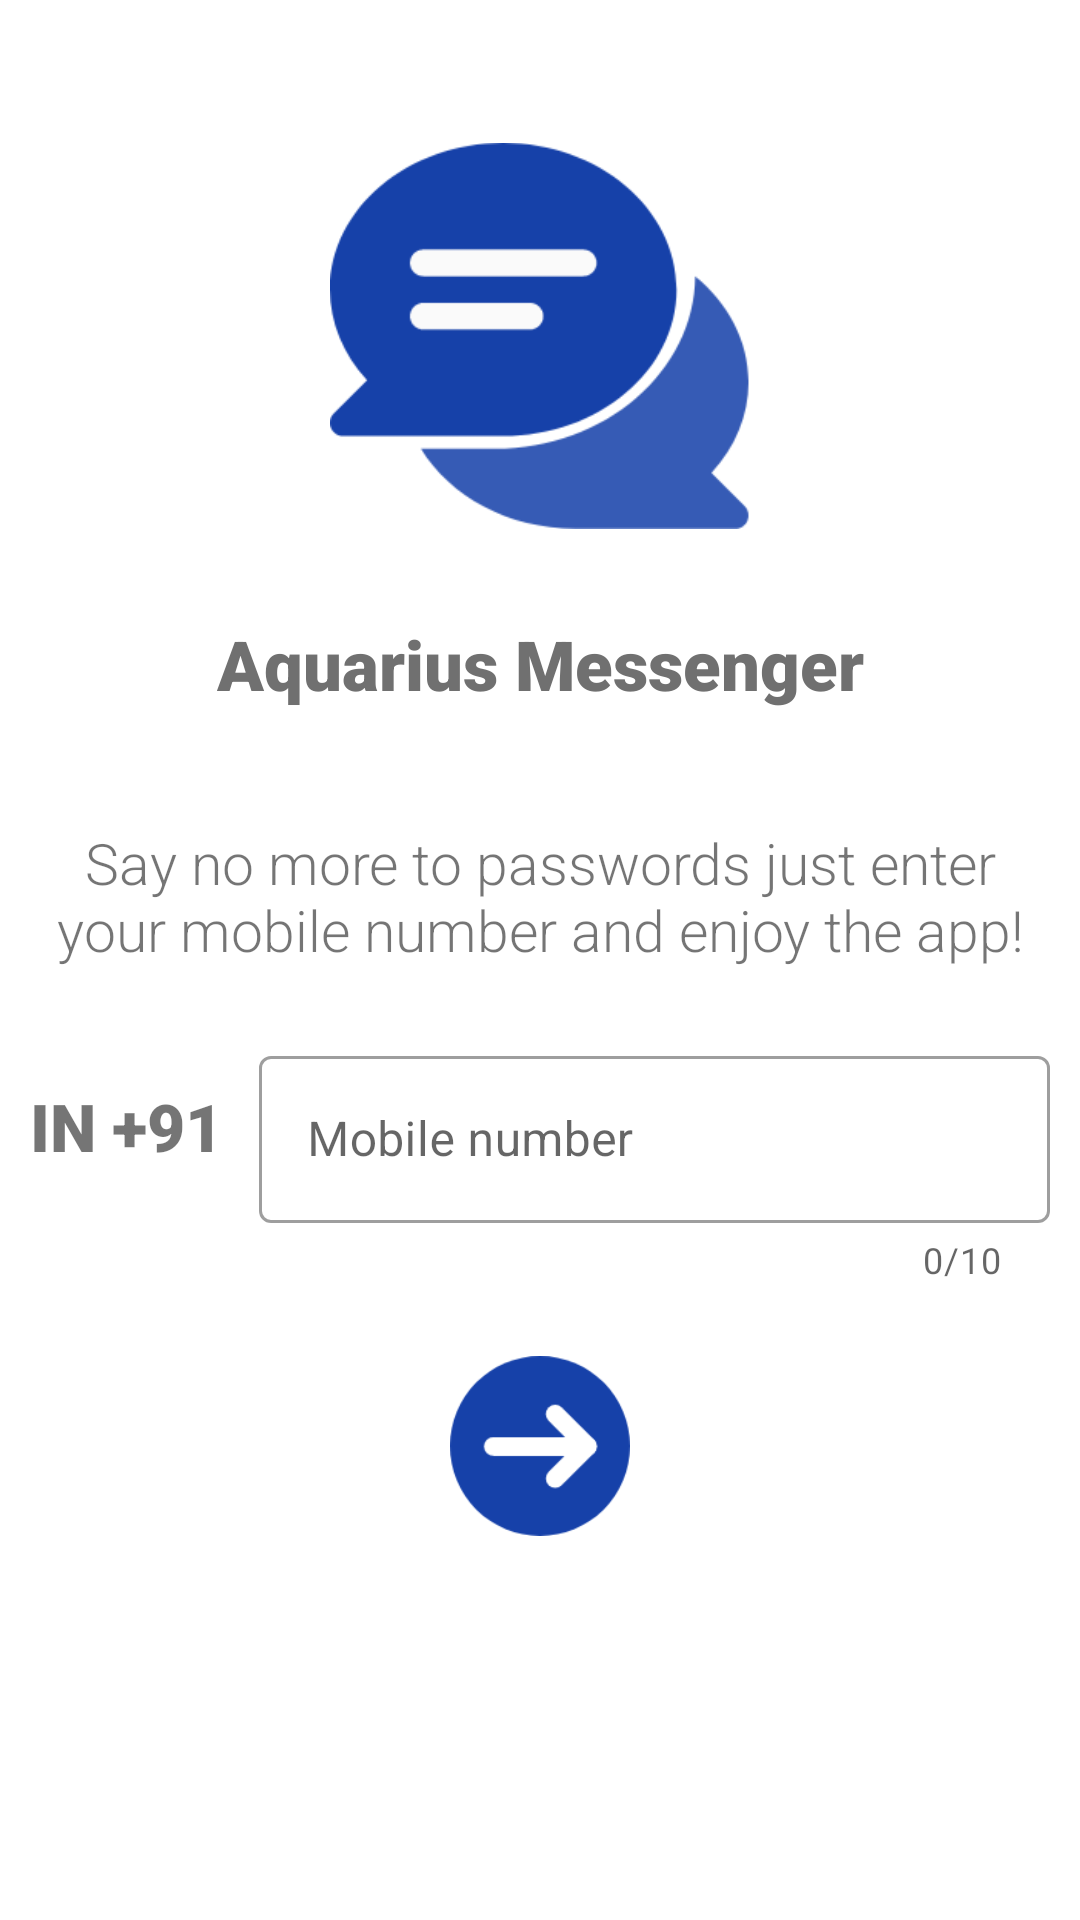

Where to tap for icons on this 1080px x 1920px app screen, as (x=x, y=y):
move on: (x=540, y=1446)
